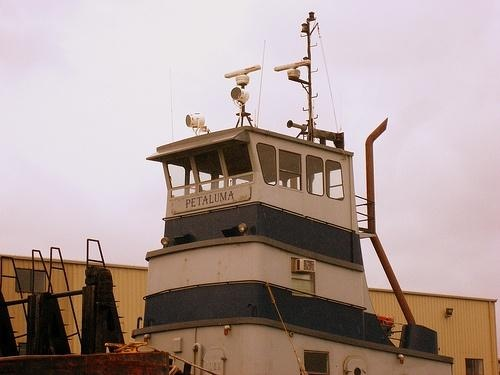boat: (2, 12, 456, 375)
